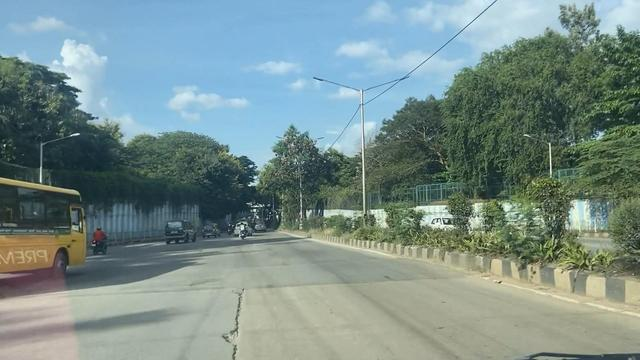RoadDamages: (208, 323, 271, 356), (227, 284, 269, 311)
